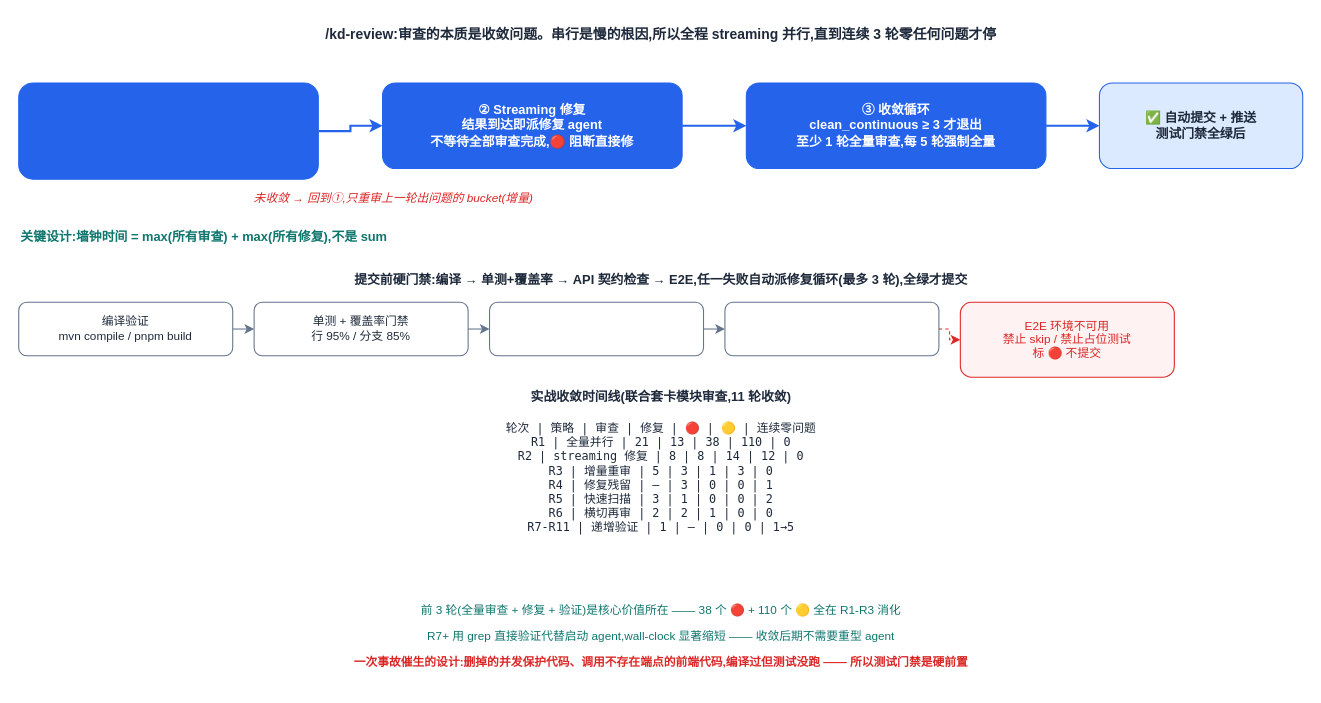
This 1321x703 diagram has some shape labels left out. The box of each missing label's shape, as (x1, y1, x2, y2) in pixels:
API 契约检查 前端调用 vs 后端 @*Mapping: (488, 301, 704, 356)
P0 E2E 最终确认 交易 + 运营后台: (724, 301, 939, 356)
① 并行审查 21 个窄范围 bucket 同时启动 每个 agent 只审 1-5 个文件,独立 worktree: (18, 82, 318, 179)
